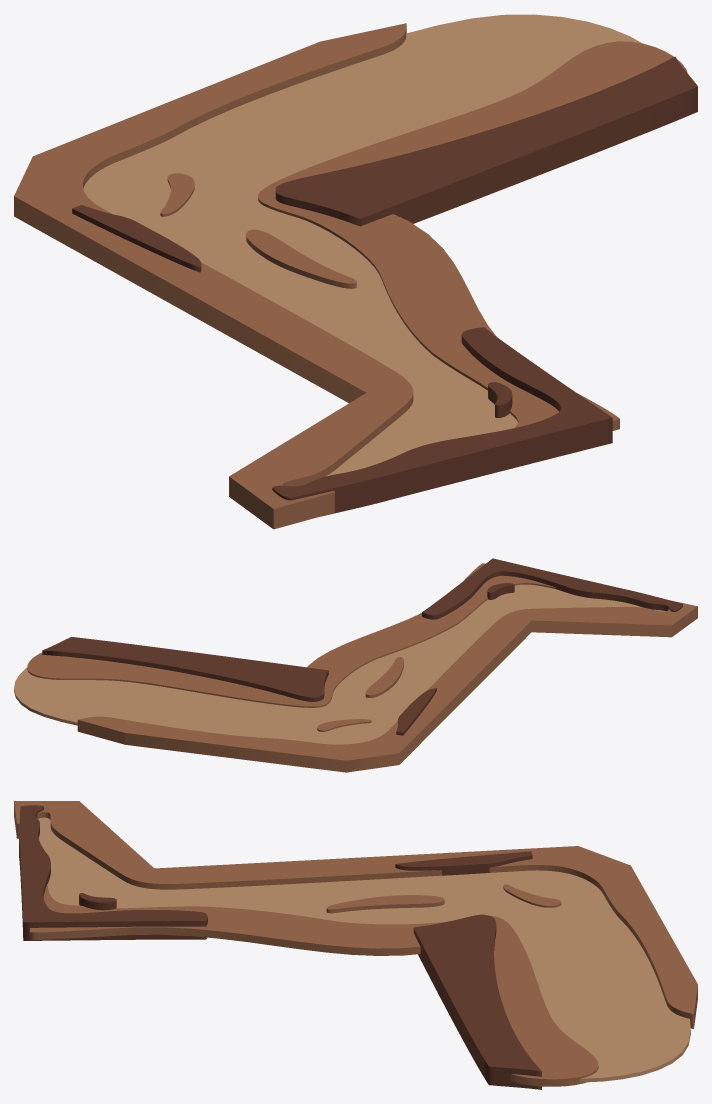
Rendered from emoji_u1f9b5_1f3fd.glb.
The picture shows the model from 3 angles, top to bottom: view 1: azimuth 30°, elevation 25°; view 2: azimuth 150°, elevation 25°; view 3: azimuth 270°, elevation 25°; orthographic projection. The views are drawn at different scales.
Visible parts, largest first — view 1: emoji_u1f9b5_1f3fd; view 2: emoji_u1f9b5_1f3fd; view 3: emoji_u1f9b5_1f3fd.
Part boxes in pixels (x1,y1,x2,y2): emoji_u1f9b5_1f3fd: (14,14,697,529); emoji_u1f9b5_1f3fd: (14,558,697,772); emoji_u1f9b5_1f3fd: (14,801,697,1089).
Bounding box in the file's own units: 0.0316 × 0.0012 × 0.0333.
